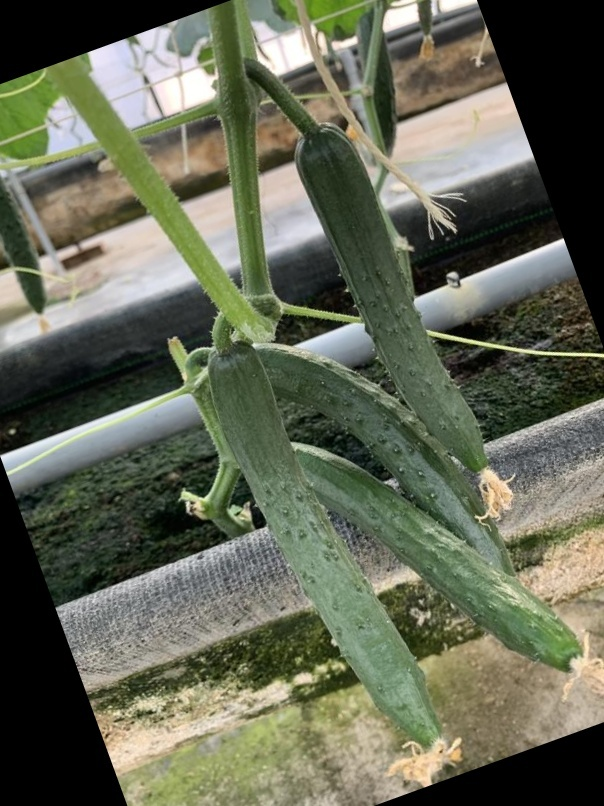mature: (206, 336, 444, 748), (300, 119, 502, 476), (290, 431, 588, 668)
